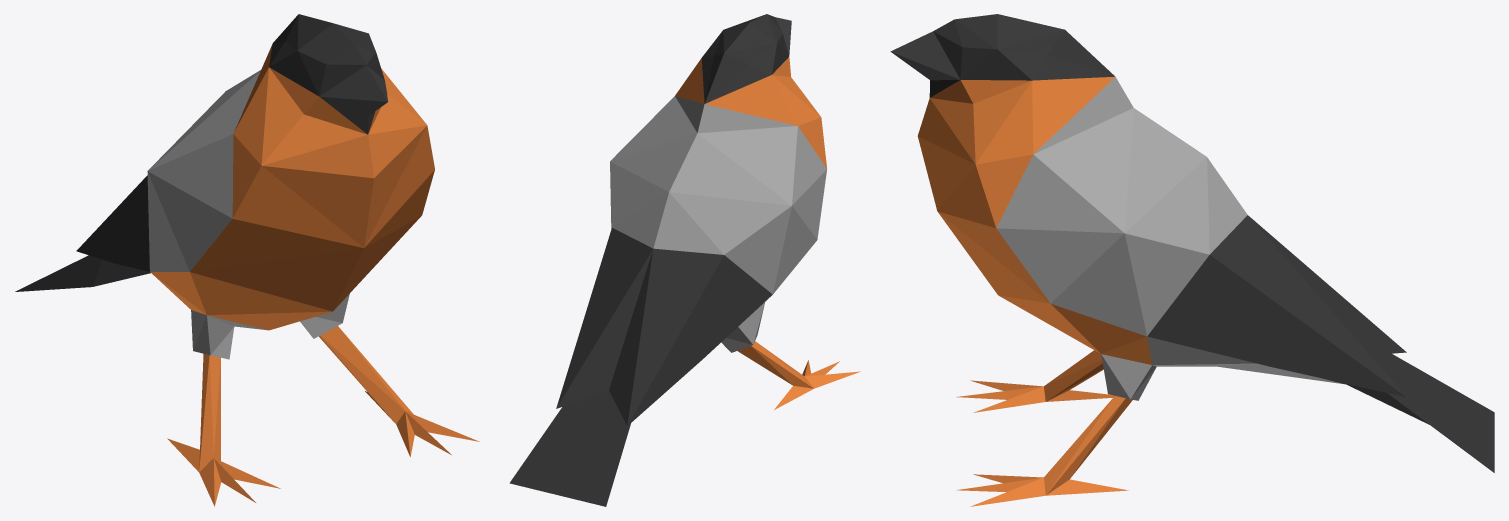
The picture shows the model from 3 angles, left to right: view 1: azimuth 30°, elevation 25°; view 2: azimuth 150°, elevation 25°; view 3: azimuth 270°, elevation 25°; orthographic projection. The views are drawn at different scales.
Parts seen in each view (by area): view 1: Plane; view 2: Plane; view 3: Plane.
Boxes of the visible parts, x1=… form: Plane: x1=15, y1=14, x2=479, y2=506; Plane: x1=509, y1=14, x2=860, y2=506; Plane: x1=890, y1=14, x2=1494, y2=506.
Size of the model in its own units: 4.15 by 8.38 by 6.57.
